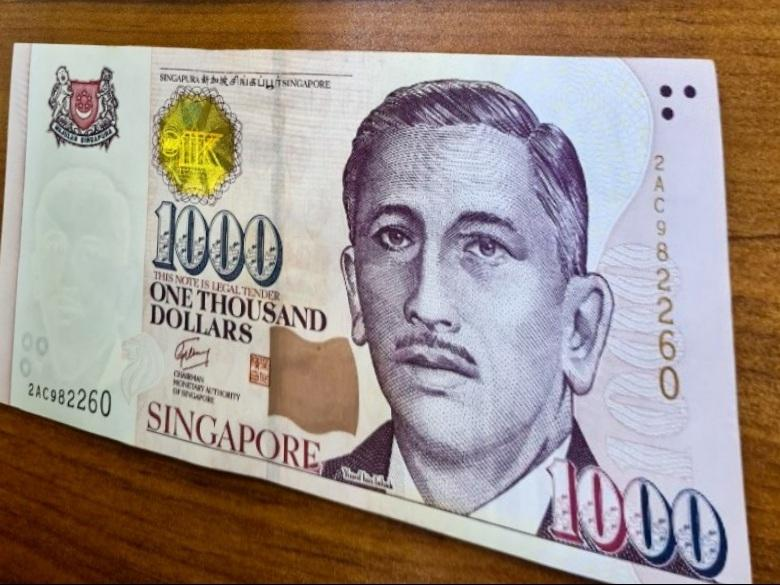1000SingaporeDollar: (15, 66, 726, 585)
